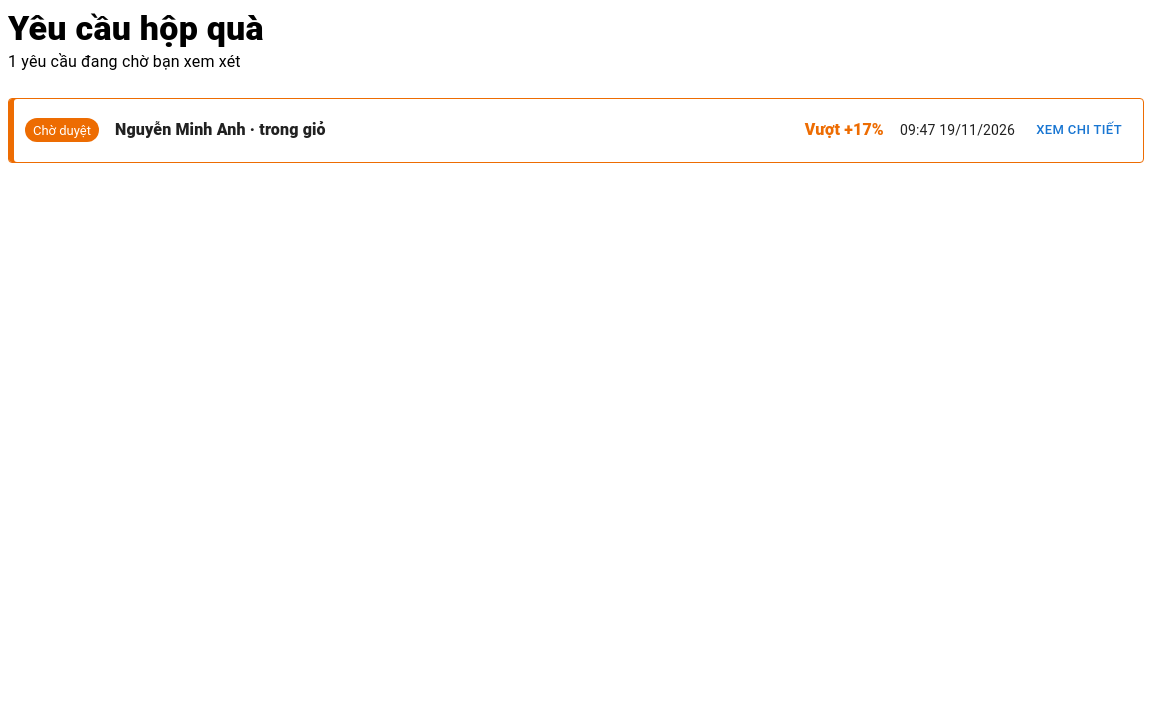
Scenario: GiftBoxRequestsPage › duyệt xong thì đổi trạng thái và hết cần xem xét
This screenshot has width=1152, height=720.
Click the button "Xem chi tiết": (1079, 130) [1031,115,1127,146]
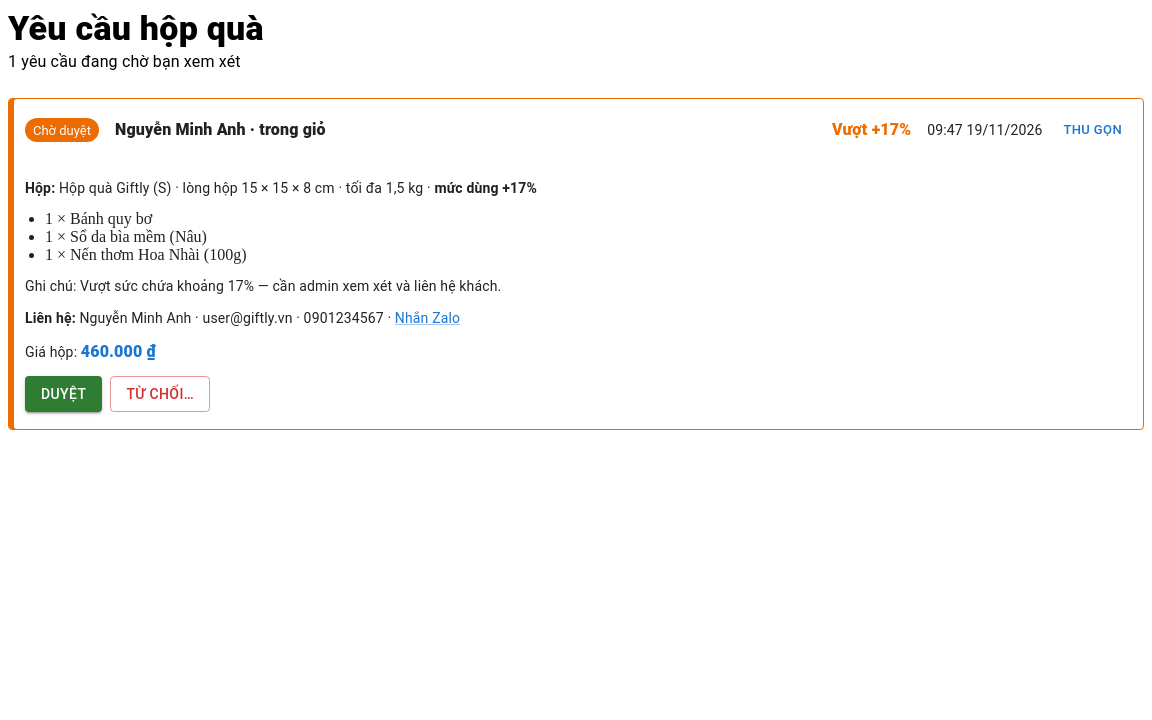
Click the button "Duyệt": (64, 394) [25,376,102,412]
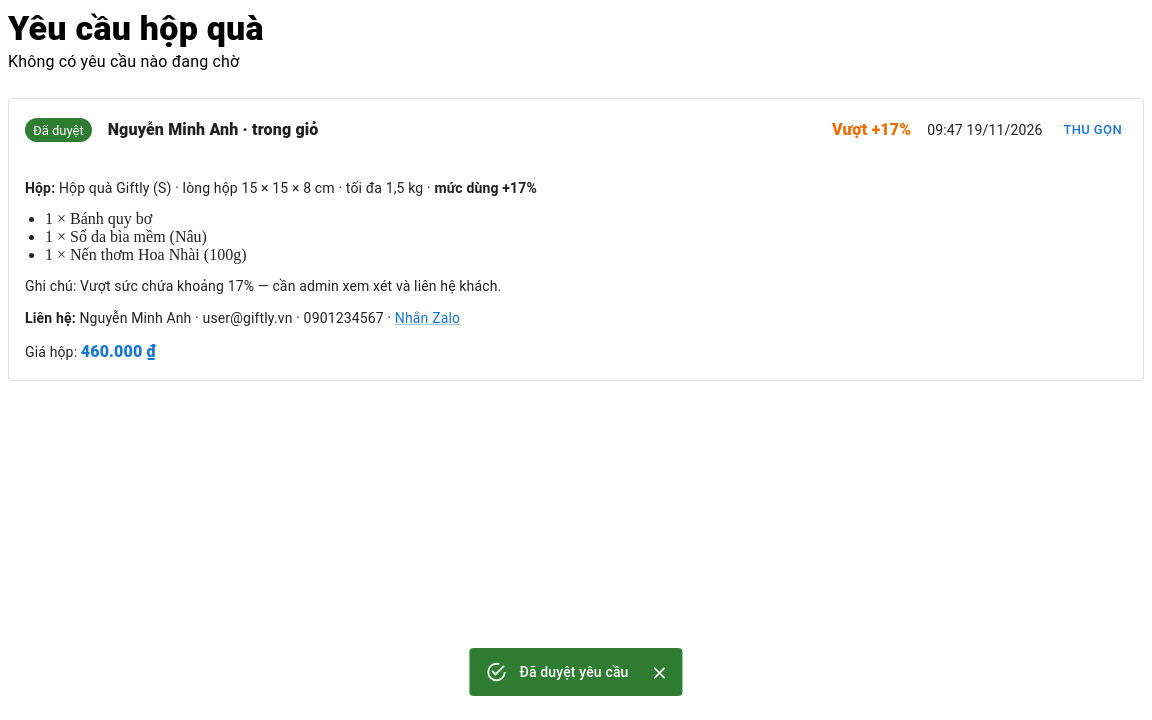
expect the text "Đã duyệt" is shown: met, box [33,123,84,138]
expect the text "Không có yêu cầu nào đang chờ" is shown: met, box [8,50,264,74]
